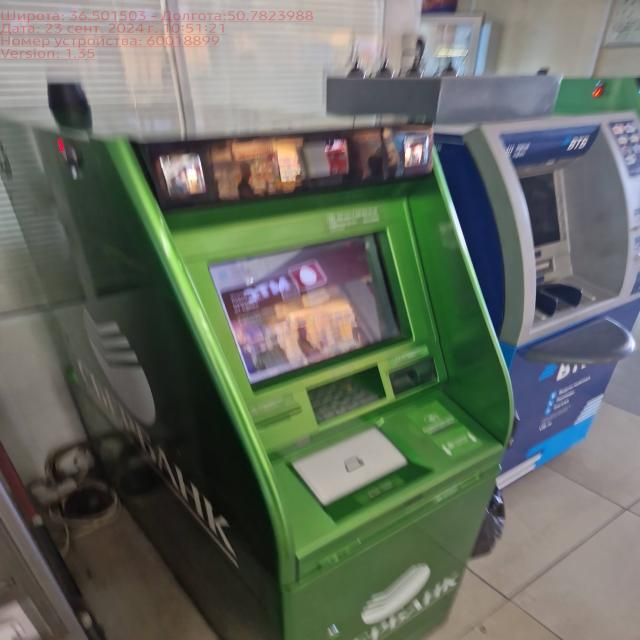bank: (0, 100, 514, 639)
